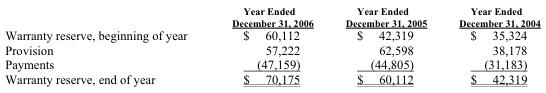table: (4, 3, 539, 86)
table column: (4, 3, 208, 86), (208, 3, 328, 86), (328, 3, 442, 86), (442, 3, 539, 86)
table column header: (4, 3, 539, 27)
table row: (4, 3, 539, 27), (4, 27, 539, 42), (4, 56, 539, 71), (4, 71, 539, 86), (4, 42, 539, 56)
